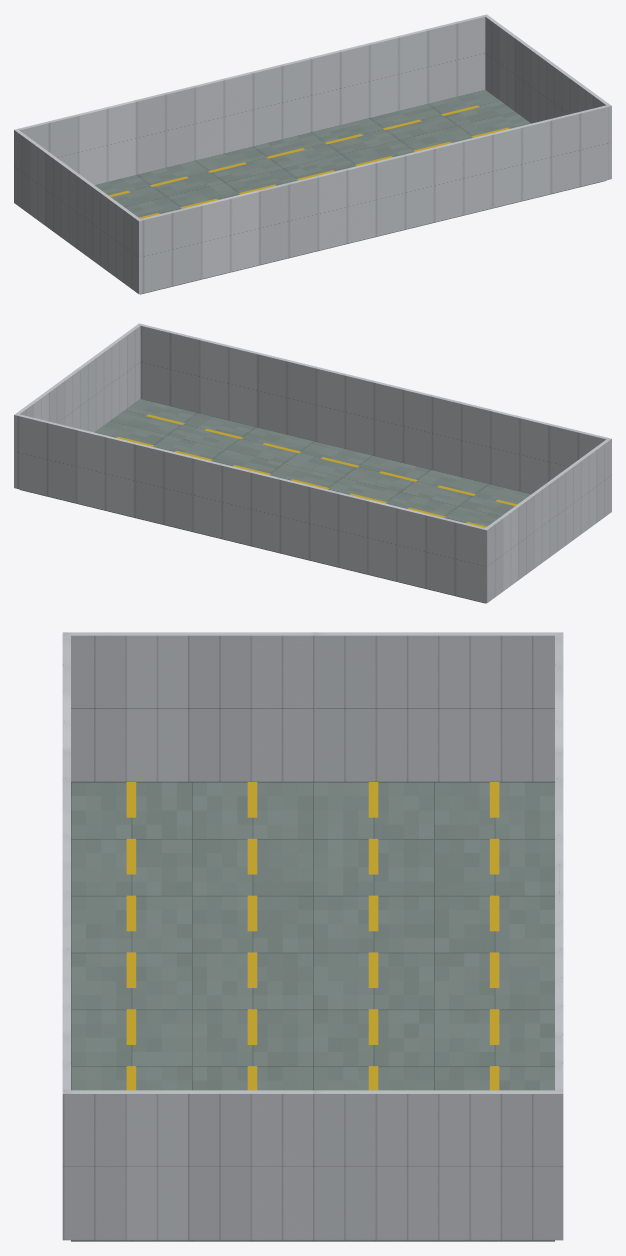
Rendered from hall.glb.
3 renders of one model, top to bottom at view 1: azimuth 30°, elevation 25°; view 2: azimuth 150°, elevation 25°; view 3: azimuth 270°, elevation 25°, orthographic. The views are drawn at different scales.
Visible parts, largest first — view 1: wall-s, wall-n, floor, wall-w, wall-e; view 2: wall-n, wall-s, floor, wall-w, wall-e; view 3: floor, wall-e, wall-w, wall-n, wall-s.
Part boxes in pixels (x1=…): wall-s: x1=141, y1=105, x2=608, y2=293; wall-n: x1=18, y1=15, x2=485, y2=185; floor: x1=95, y1=90, x2=605, y2=294; wall-w: x1=14, y1=129, x2=142, y2=294; wall-e: x1=483, y1=14, x2=611, y2=179; wall-n: x1=17, y1=414, x2=484, y2=602; wall-s: x1=140, y1=324, x2=607, y2=494; floor: x1=20, y1=399, x2=530, y2=603; wall-w: x1=483, y1=438, x2=611, y2=603; wall-e: x1=14, y1=323, x2=142, y2=488; floor: x1=71, y1=782, x2=554, y2=1241; wall-e: x1=62, y1=1090, x2=563, y2=1240; wall-w: x1=62, y1=632, x2=563, y2=781; wall-n: x1=555, y1=635, x2=563, y2=1090; wall-s: x1=62, y1=635, x2=70, y2=1090.
Bounding box in the file's own units: 40.6 × 6.2 × 18.6.
Materials: 2 (2 with a texture image).
